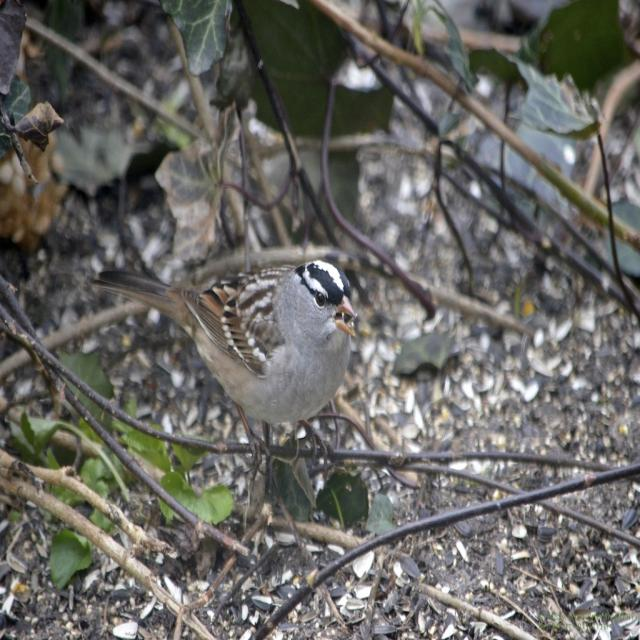bird: (188, 262, 360, 459)
